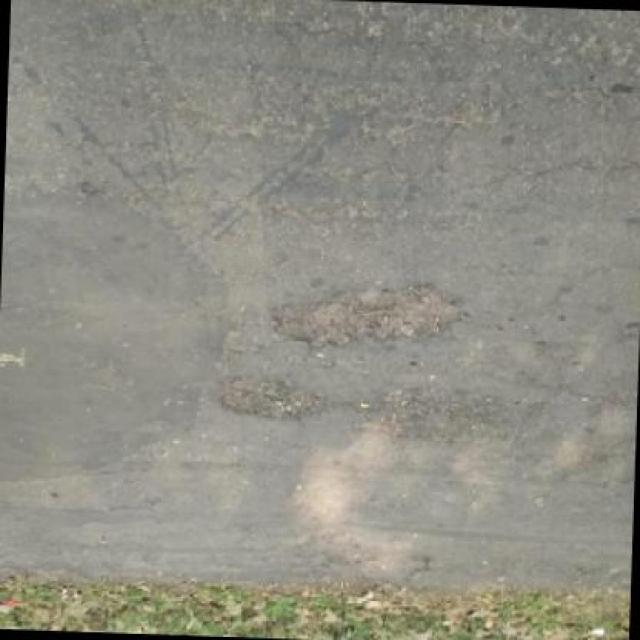pothole1: (268, 278, 475, 359), (369, 383, 513, 451), (216, 372, 324, 428)
